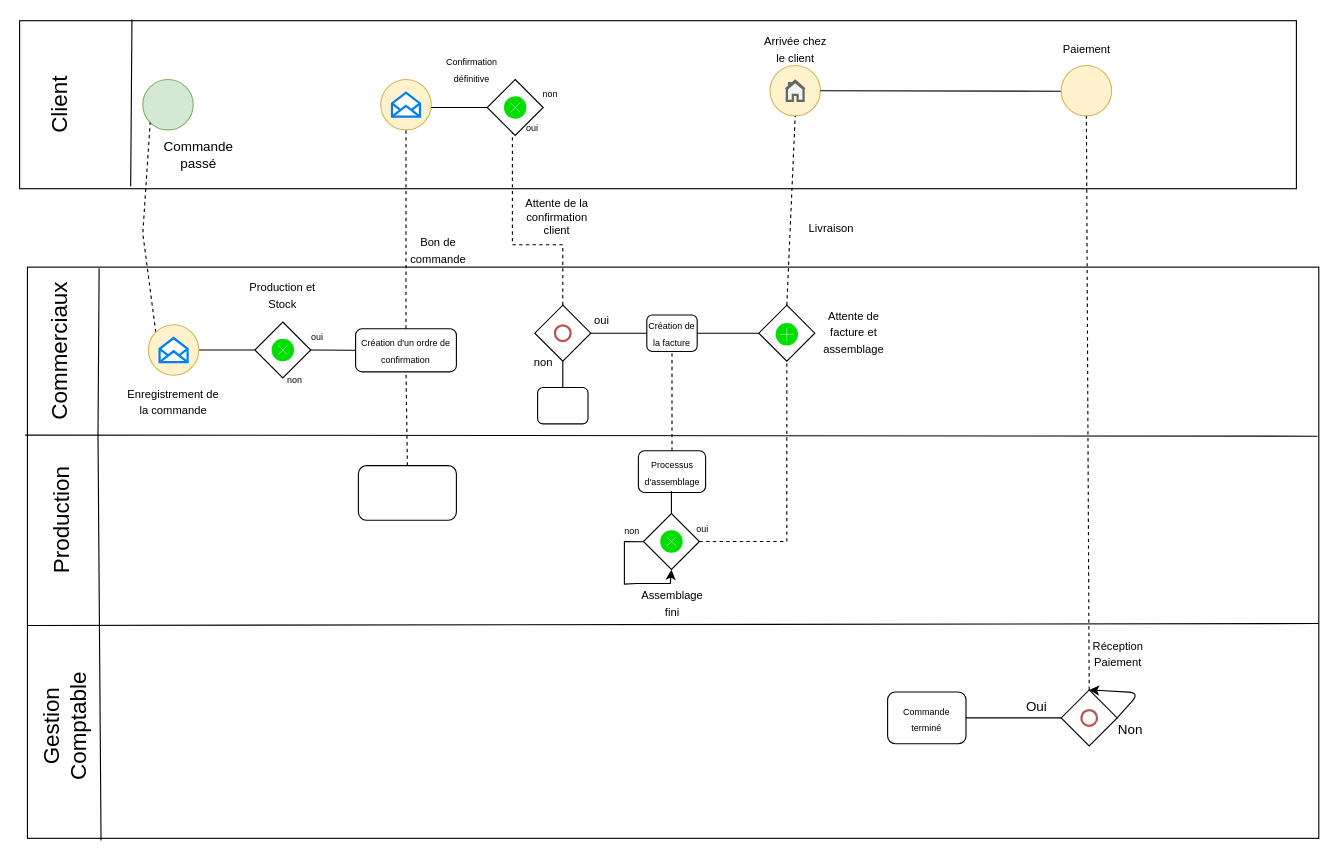
Image size: 1340x862. Some labels were removed from this diagram. Here are the shapes that lost their labels. From the top down, the centre of each, then its label:
At point (562, 405): "Fin de processus".
At point (406, 492): "Réservation des produits".
